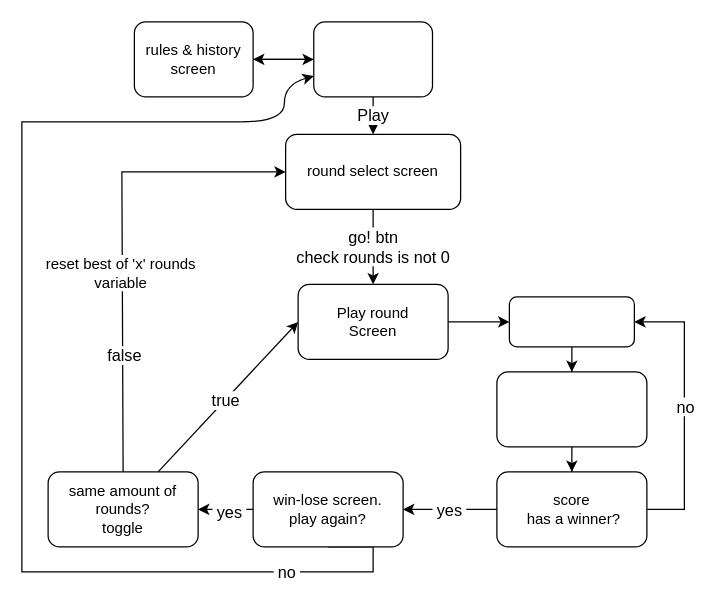
The diagram is 716 pixels wide and 603 high, and some of its shapes have lost their labels. Here are the shapes that lost their labels. From the top down, the box of each, then its label:
(312, 21, 432, 97): homescreen
(508, 296, 634, 347): User input choice
(496, 371, 647, 447): get cpu choice check round winner update score
